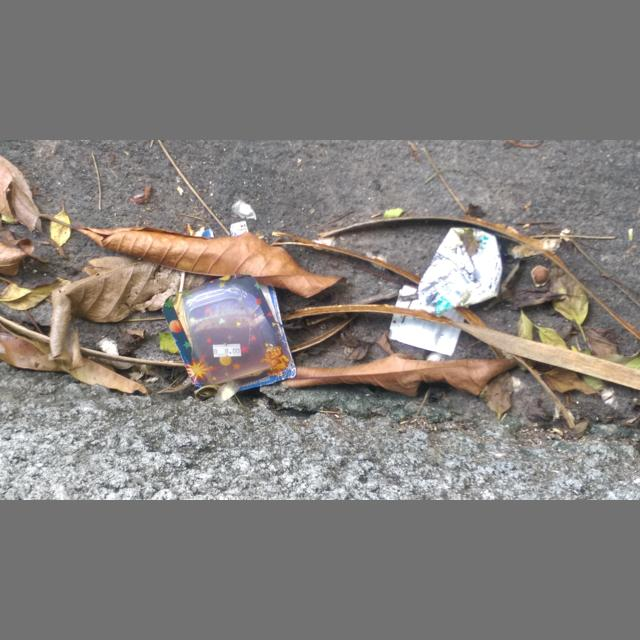litter: (163, 274, 296, 393), (418, 228, 503, 317), (389, 285, 466, 357), (194, 221, 249, 238)
